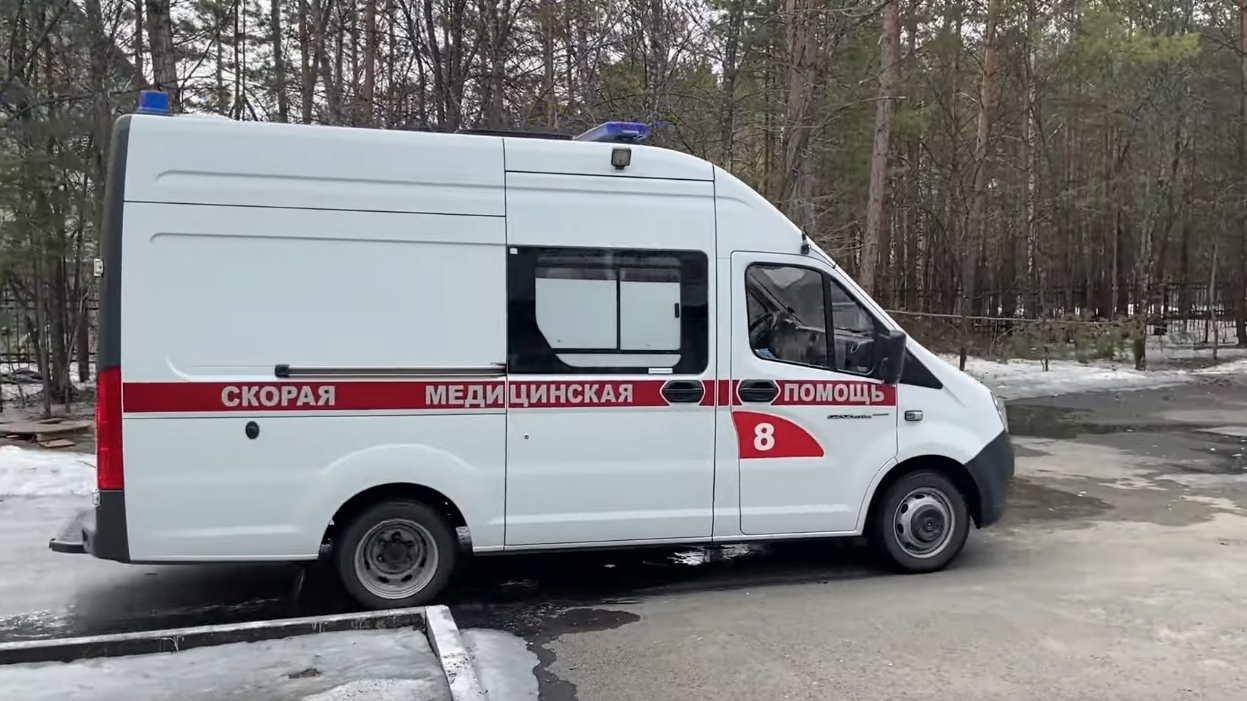ambulance: (96, 91, 1012, 611)
